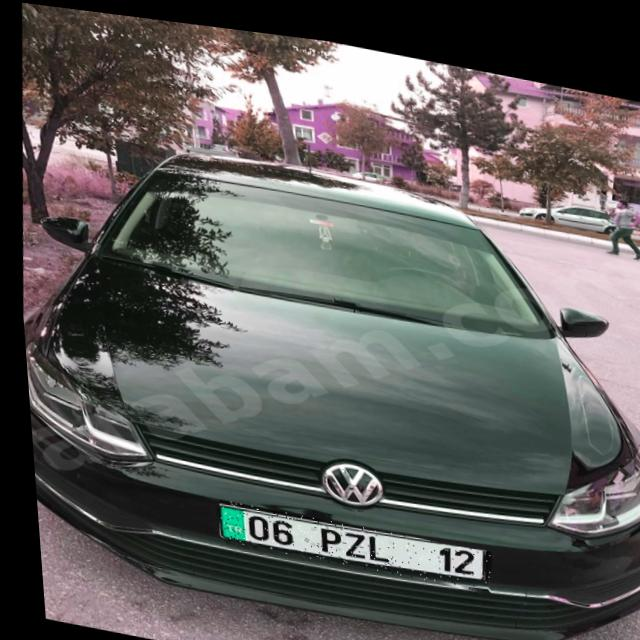license_plate: (209, 495, 485, 582)
